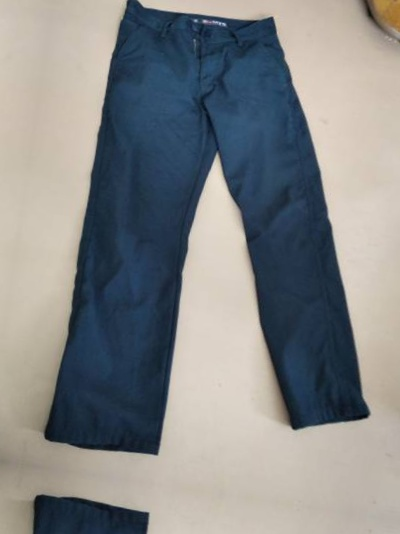Pants: (19, 0, 400, 484), (0, 495, 356, 534), (0, 0, 28, 424)
